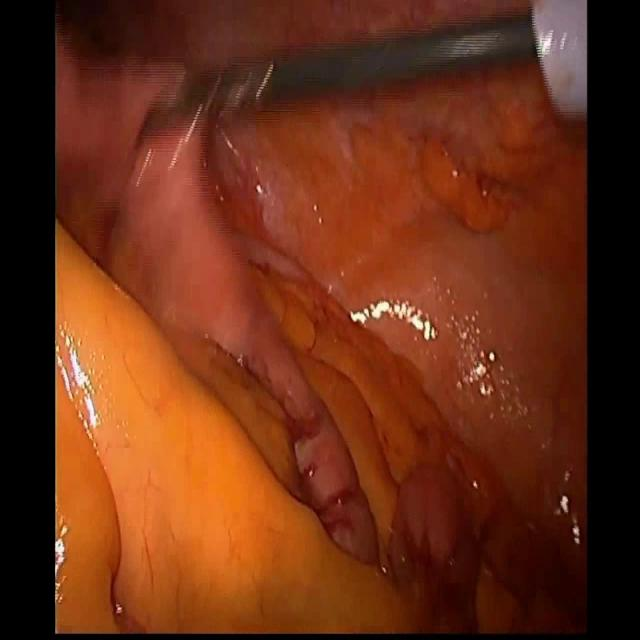surgical-area: (54, 0, 587, 633)
surgical-tool: (188, 0, 588, 123)
